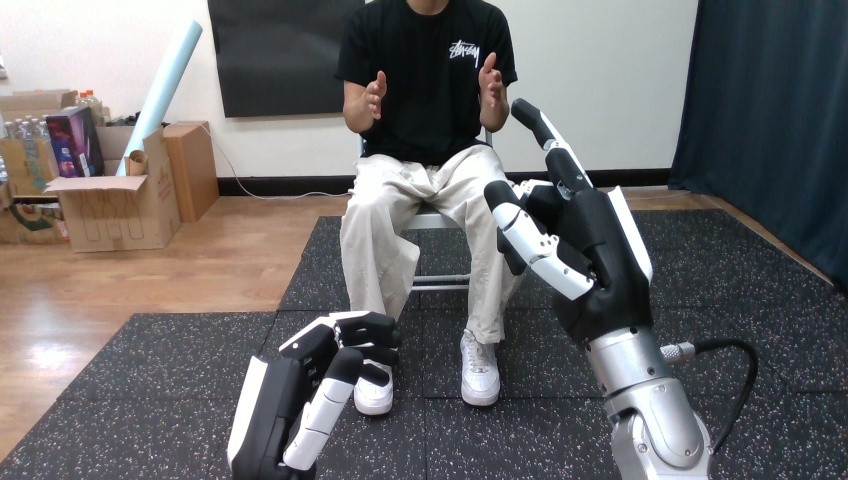left robot arm: (484, 99, 756, 479), (484, 99, 711, 478)
left robot hand: (484, 99, 756, 479)
right robot arm: (484, 99, 756, 479)
right robot hand: (484, 99, 756, 479)
